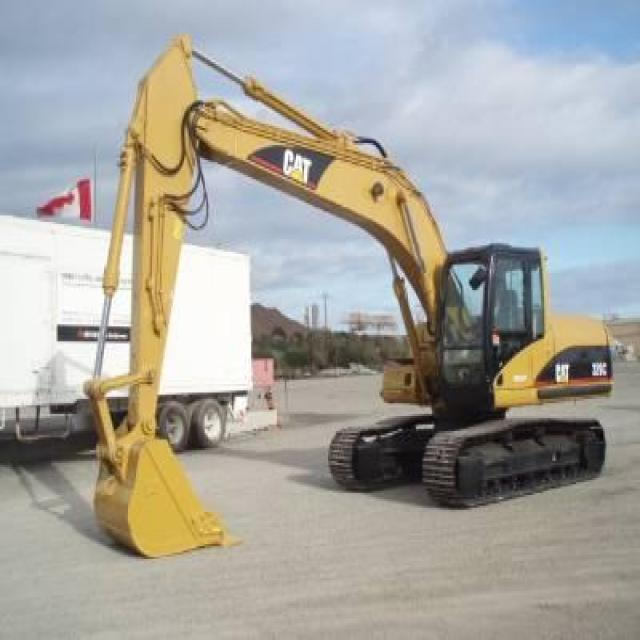excavator: (85, 30, 620, 568)
